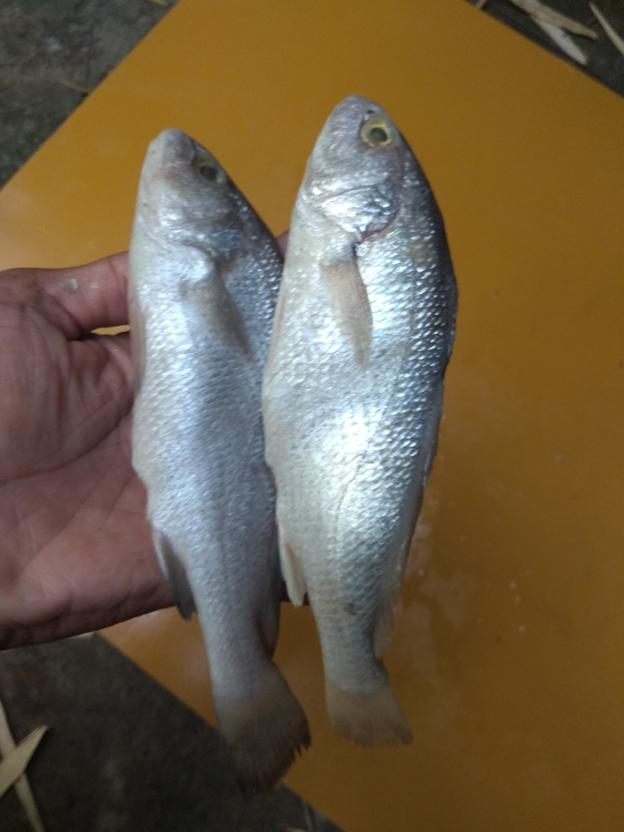Fish head: (129, 127, 259, 268), (296, 91, 418, 239)
Fish tail: (206, 664, 316, 802), (325, 667, 415, 751)
